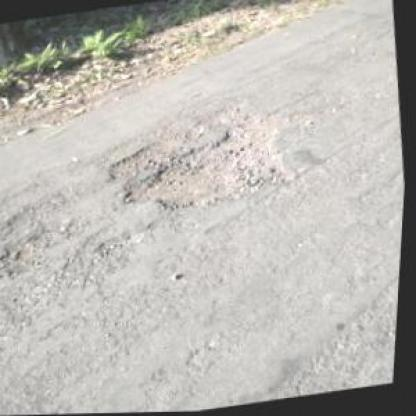pothole: (99, 93, 332, 223)
